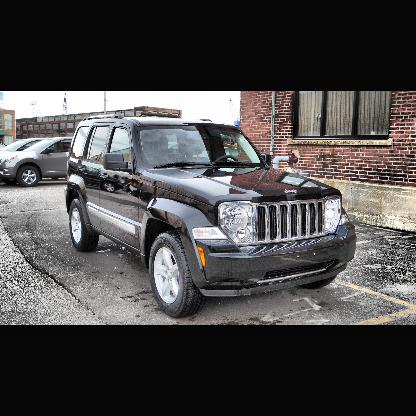Jeep Liberty SUV 2012: (65, 114, 359, 320)
